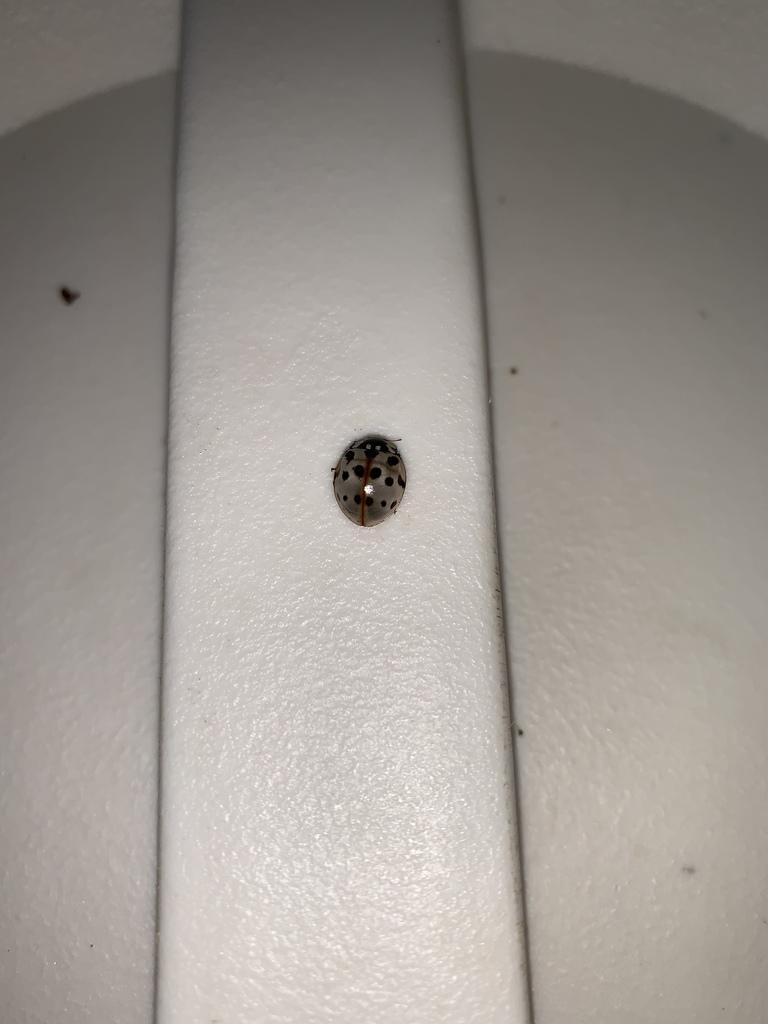ladybug: (329, 431, 414, 531)
